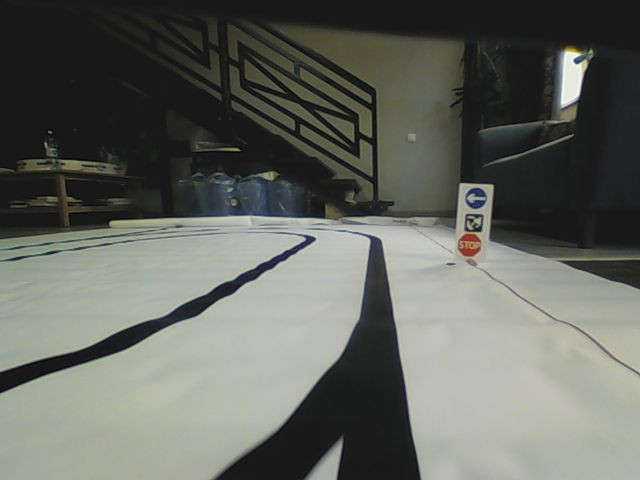Stop: (457, 232, 483, 254)
